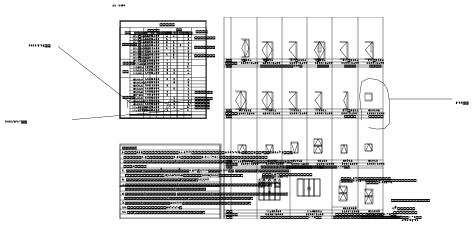door: (200, 0, 390, 227), (75, 1, 194, 83), (213, 123, 226, 143), (244, 123, 257, 143), (244, 180, 257, 199), (307, 180, 320, 199), (220, 182, 230, 202), (368, 180, 378, 199), (338, 180, 348, 199), (277, 123, 286, 143), (308, 123, 317, 143), (277, 180, 286, 199), (213, 123, 219, 143), (219, 123, 225, 143), (342, 123, 348, 143), (216, 74, 226, 84), (280, 74, 288, 86), (277, 180, 286, 190), (338, 180, 347, 190), (277, 123, 286, 133), (249, 74, 258, 84), (277, 190, 286, 199), (338, 190, 347, 199), (277, 133, 286, 142), (368, 17, 377, 26), (338, 20, 347, 29), (369, 180, 377, 190), (308, 123, 316, 133), (307, 74, 317, 82), (307, 82, 317, 90), (339, 74, 347, 84), (369, 190, 377, 199), (308, 133, 316, 142), (369, 133, 377, 141), (369, 76, 377, 84), (368, 26, 377, 33), (338, 29, 347, 36), (245, 180, 251, 190), (251, 180, 257, 190), (308, 180, 314, 190), (314, 180, 320, 190), (245, 123, 251, 133), (251, 123, 257, 133), (245, 190, 251, 199), (251, 190, 257, 199), (308, 190, 314, 199), (314, 190, 320, 199), (245, 133, 251, 142), (251, 133, 257, 142), (280, 74, 284, 86), (284, 74, 288, 86), (266, 40, 287, 42), (221, 182, 225, 192), (225, 182, 229, 192), (368, 17, 373, 25), (343, 123, 347, 133), (221, 192, 225, 201), (225, 192, 229, 201), (343, 74, 347, 83), (217, 74, 221, 83), (221, 74, 225, 83), (250, 74, 254, 83), (343, 133, 347, 142), (368, 26, 373, 33), (342, 21, 347, 28), (342, 29, 347, 36), (308, 74, 312, 82), (312, 74, 316, 82), (373, 17, 377, 25), (308, 83, 312, 90), (312, 83, 316, 90), (369, 77, 373, 84), (373, 77, 377, 84), (373, 26, 377, 33), (338, 21, 342, 28), (338, 29, 342, 36), (340, 74, 343, 83), (254, 74, 257, 83), (311, 187, 313, 198), (375, 187, 377, 198), (315, 187, 316, 198)
fire_door: (77, 27, 81, 30), (77, 43, 81, 46), (163, 192, 167, 194), (163, 183, 167, 185), (164, 203, 167, 205), (77, 196, 80, 198)
fire_window: (164, 131, 167, 133), (330, 1, 333, 3)
room: (74, 0, 195, 84), (362, 101, 398, 158), (83, 120, 136, 133), (241, 21, 266, 45), (130, 122, 160, 133)
staircase: (164, 135, 167, 137), (164, 142, 167, 144), (311, 171, 313, 173), (374, 171, 376, 173), (243, 58, 246, 59), (274, 58, 276, 59)
wall: (0, 131, 86, 194), (17, 112, 140, 122), (241, 40, 266, 45), (247, 40, 254, 45), (260, 40, 266, 45), (254, 40, 260, 45), (242, 40, 247, 45), (260, 36, 266, 40), (242, 36, 247, 40)
